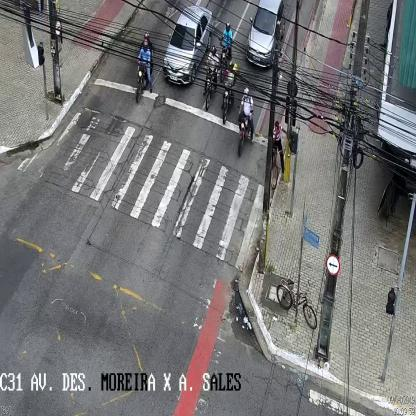bicycle: (276, 278, 317, 330), (268, 121, 288, 188)
car: (162, 5, 213, 87), (246, 1, 287, 66)
motorbike: (136, 32, 154, 104), (237, 86, 254, 157), (202, 45, 219, 113), (223, 62, 236, 125), (219, 20, 235, 64)
